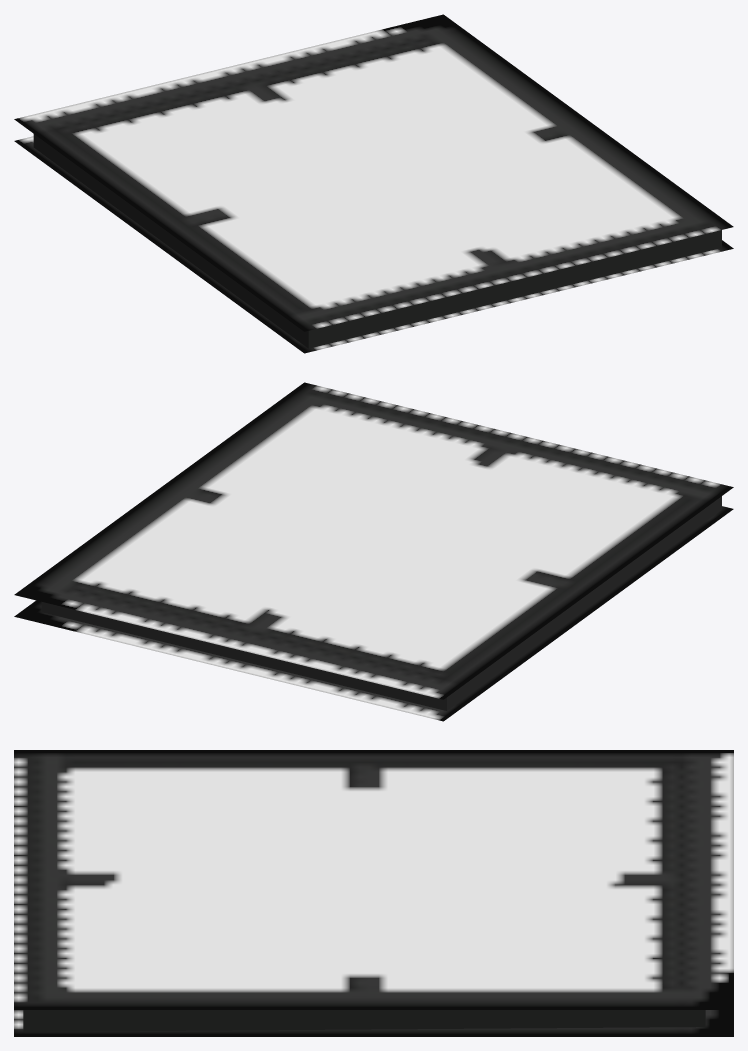
File: pz_native_fixtures_windows_metal_117_frame.obj
3 renders of one model, top to bottom at view 1: azimuth 30°, elevation 25°; view 2: azimuth 150°, elevation 25°; view 3: azimuth 270°, elevation 25°, orthographic. The views are drawn at different scales.
Parts seen in each view (by area): view 1: pz_native_fixtures_windows_metal_117_frame; view 2: pz_native_fixtures_windows_metal_117_frame; view 3: pz_native_fixtures_windows_metal_117_frame.
Part boxes in pixels (bbox=[...]): pz_native_fixtures_windows_metal_117_frame: bbox=[14, 14, 733, 353]; pz_native_fixtures_windows_metal_117_frame: bbox=[14, 382, 733, 721]; pz_native_fixtures_windows_metal_117_frame: bbox=[14, 750, 733, 1036].
Size of the model in its own units: 0.8281 by 0.04 by 0.9696.
1 material, 1 textured.
